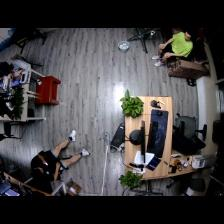normal: (32, 132, 90, 179), (1, 58, 29, 83)
